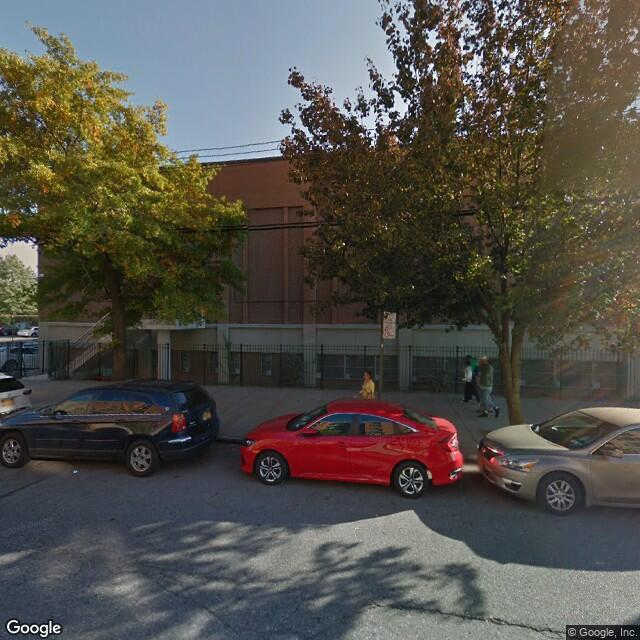litter: (70, 466, 84, 479)
